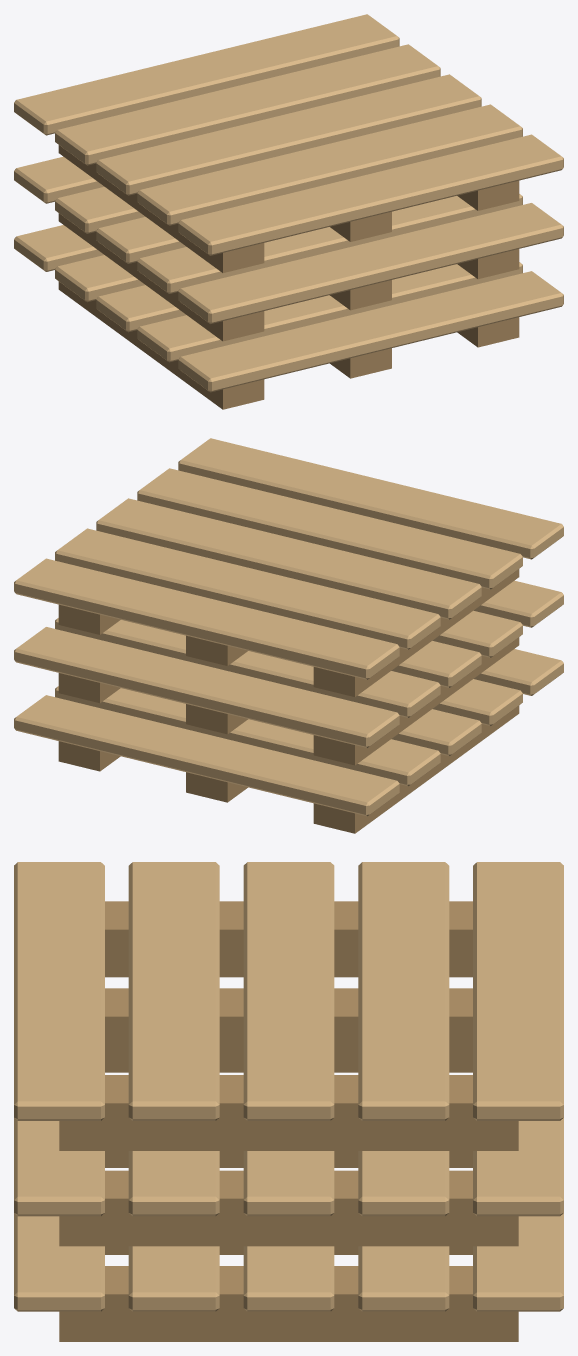
Rendered from pallet_stack.glb.
3 views of the same model, one above another, from view 1: azimuth 30°, elevation 25°; view 2: azimuth 150°, elevation 25°; view 3: azimuth 270°, elevation 25° (orthographic). The views are drawn at different scales.
Parts seen in each view (by area): view 1: pallet_stack; view 2: pallet_stack; view 3: pallet_stack.
Part boxes in pixels (<box>): pallet_stack: <box>14,14,563,409</box>; pallet_stack: <box>14,438,563,833</box>; pallet_stack: <box>14,862,563,1341</box>.
Bounding box in the file's own units: 1.2 × 0.5975 × 1.15.
